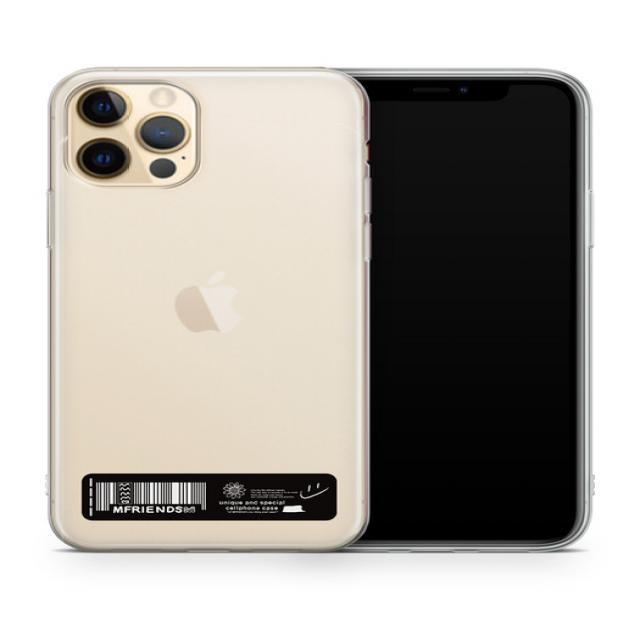phone: (48, 66, 372, 551)
